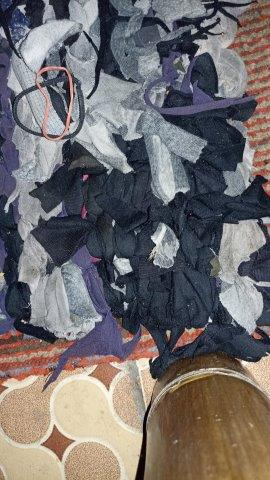karet: (12, 66, 85, 140)
